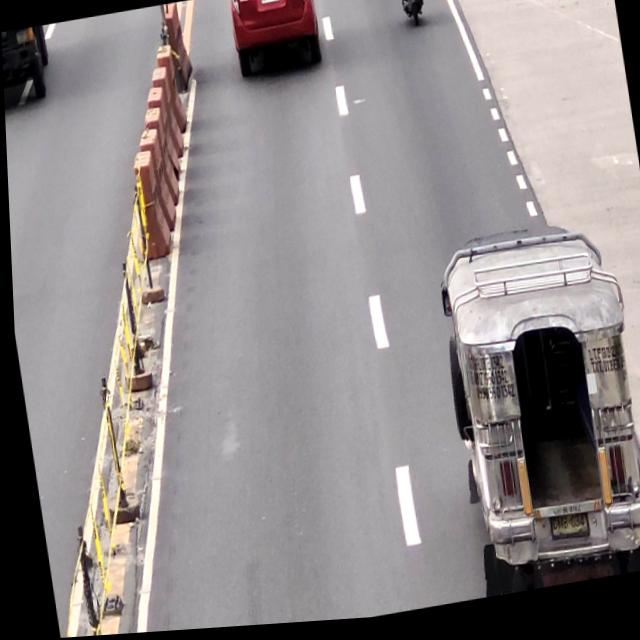Car: (226, 0, 324, 85)
Jeep: (427, 216, 640, 606)
License-Plate: (545, 517, 585, 546), (258, 0, 280, 7)
Motorcycle: (395, 0, 428, 35)
